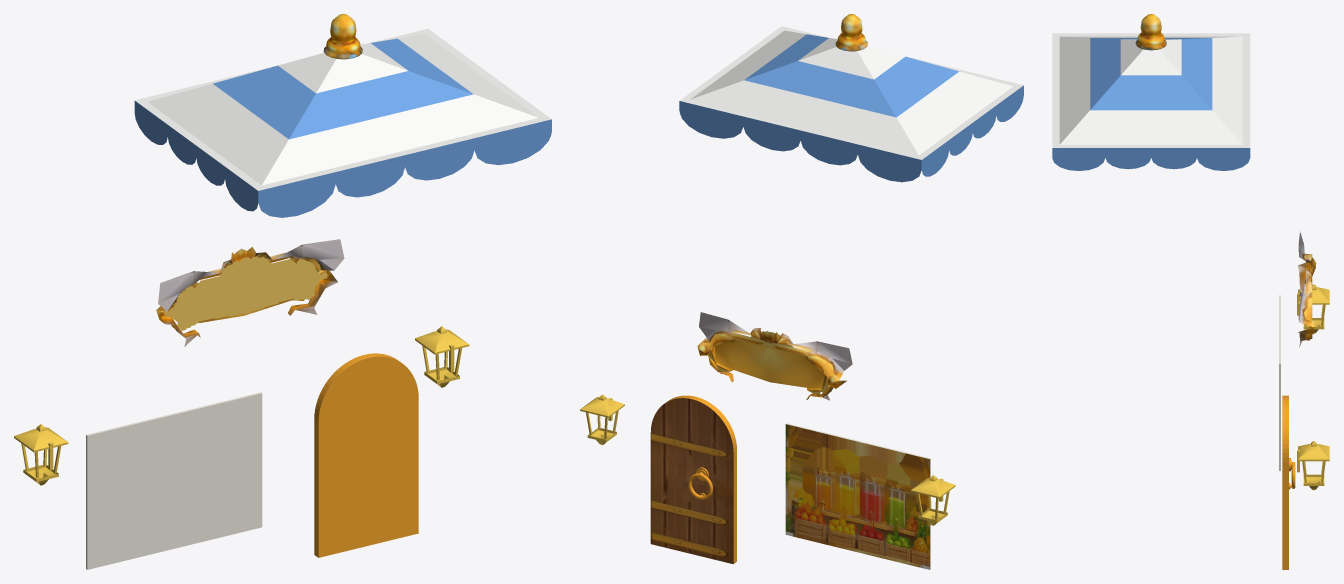
The model's file is HaloShop_Juice_deco.glb.
The picture shows the model from 3 angles, left to right: view 1: azimuth 30°, elevation 25°; view 2: azimuth 150°, elevation 25°; view 3: azimuth 270°, elevation 25°; orthographic projection. The views are drawn at different scales.
Visible parts, largest first — view 1: HaloShop_Juice_CanopyB, HaloShop_Juice_Display.001, HaloShop_Juice_CanopyA, HaloShop_Juice_Leaf, HaloShop_Juice_PlaqueBack, HaloShop_Juice_Sign, HaloShop_Juice_Lantern0, HaloShop_Juice_Lantern1, HaloShop_Juice_CanopyFinial; view 2: HaloShop_Juice_CanopyB, HaloShop_Juice_Display.001, HaloShop_Juice_CanopyA, HaloShop_Juice_Leaf, HaloShop_Juice_Sign, HaloShop_Juice_Lantern1, HaloShop_Juice_Lantern0, HaloShop_Juice_CanopyFinial; view 3: HaloShop_Juice_CanopyB, HaloShop_Juice_CanopyA, HaloShop_Juice_Sign, HaloShop_Juice_Leaf, HaloShop_Juice_Lantern0, HaloShop_Juice_CanopyFinial, HaloShop_Juice_Lantern1.
Part boxes in pixels (x1,y1,x2,y2): HaloShop_Juice_CanopyB: (135, 29, 551, 190); HaloShop_Juice_Display.001: (86, 392, 262, 569); HaloShop_Juice_CanopyA: (134, 38, 551, 217); HaloShop_Juice_Leaf: (314, 353, 418, 557); HaloShop_Juice_PlaqueBack: (163, 256, 328, 330); HaloShop_Juice_Sign: (156, 239, 344, 346); HaloShop_Juice_Lantern0: (415, 326, 469, 387); HaloShop_Juice_Lantern1: (14, 424, 68, 485); HaloShop_Juice_CanopyFinial: (323, 14, 362, 59); HaloShop_Juice_CanopyB: (680, 26, 1023, 159); HaloShop_Juice_Display.001: (785, 423, 930, 569); HaloShop_Juice_CanopyA: (679, 34, 1023, 182); HaloShop_Juice_Leaf: (650, 395, 736, 564); HaloShop_Juice_Sign: (697, 312, 852, 400); HaloShop_Juice_Lantern1: (911, 475, 955, 525); HaloShop_Juice_Lantern0: (580, 394, 624, 444); HaloShop_Juice_CanopyFinial: (835, 14, 867, 51); HaloShop_Juice_CanopyB: (1052, 33, 1250, 147); HaloShop_Juice_CanopyA: (1052, 38, 1250, 170); HaloShop_Juice_Sign: (1297, 231, 1316, 347); HaloShop_Juice_Leaf: (1282, 395, 1288, 569); HaloShop_Juice_Lantern0: (1297, 441, 1329, 490); HaloShop_Juice_CanopyFinial: (1135, 14, 1166, 50); HaloShop_Juice_Lantern1: (1297, 284, 1329, 333).
Size of the model in its own units: 18.68 by 25.27 by 12.89.
Materials: 9 (4 with a texture image).
